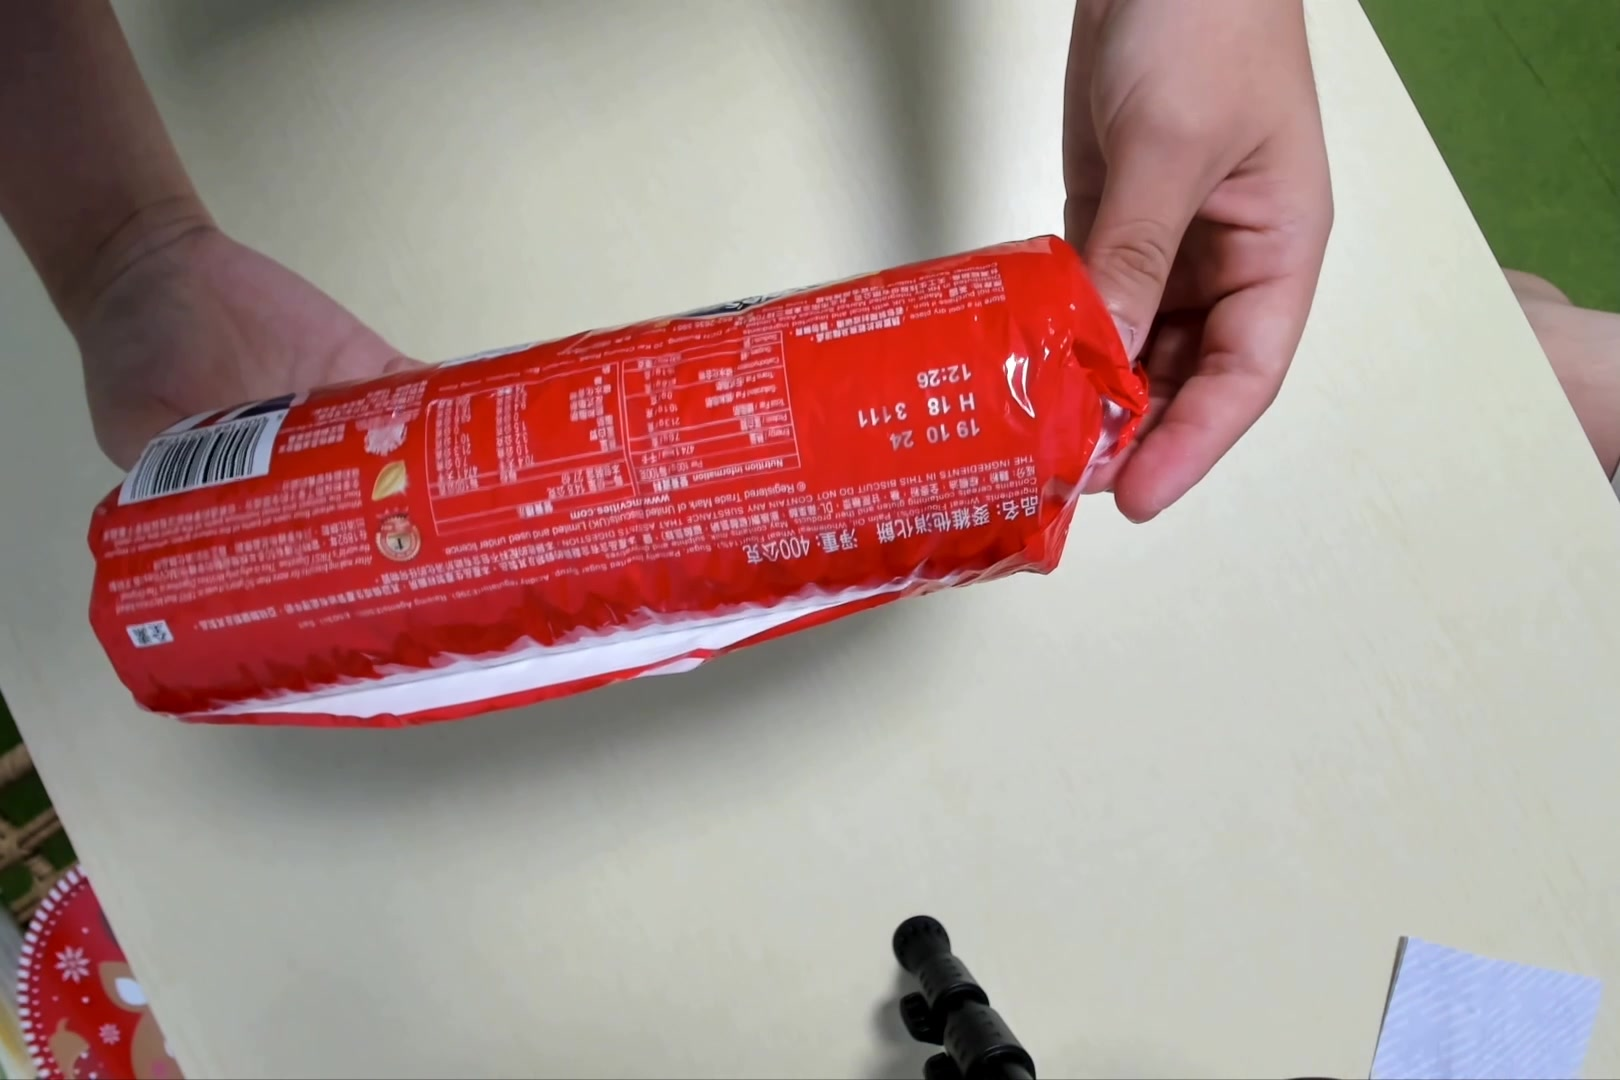BiscuitsCrackersCookies_400-499g_NonHalal_NonHealthy: (84, 241, 1147, 739)
